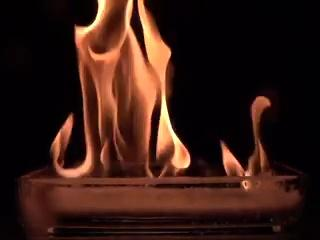Fire: (112, 1, 250, 180)
